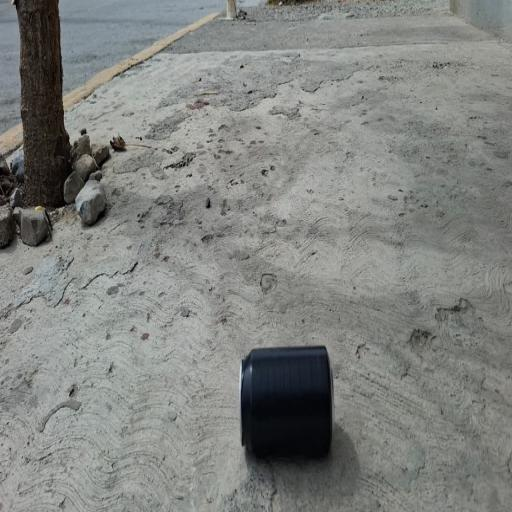LATA: (232, 342, 342, 471)
